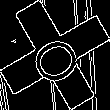O_NE: (22, 24, 88, 86)
